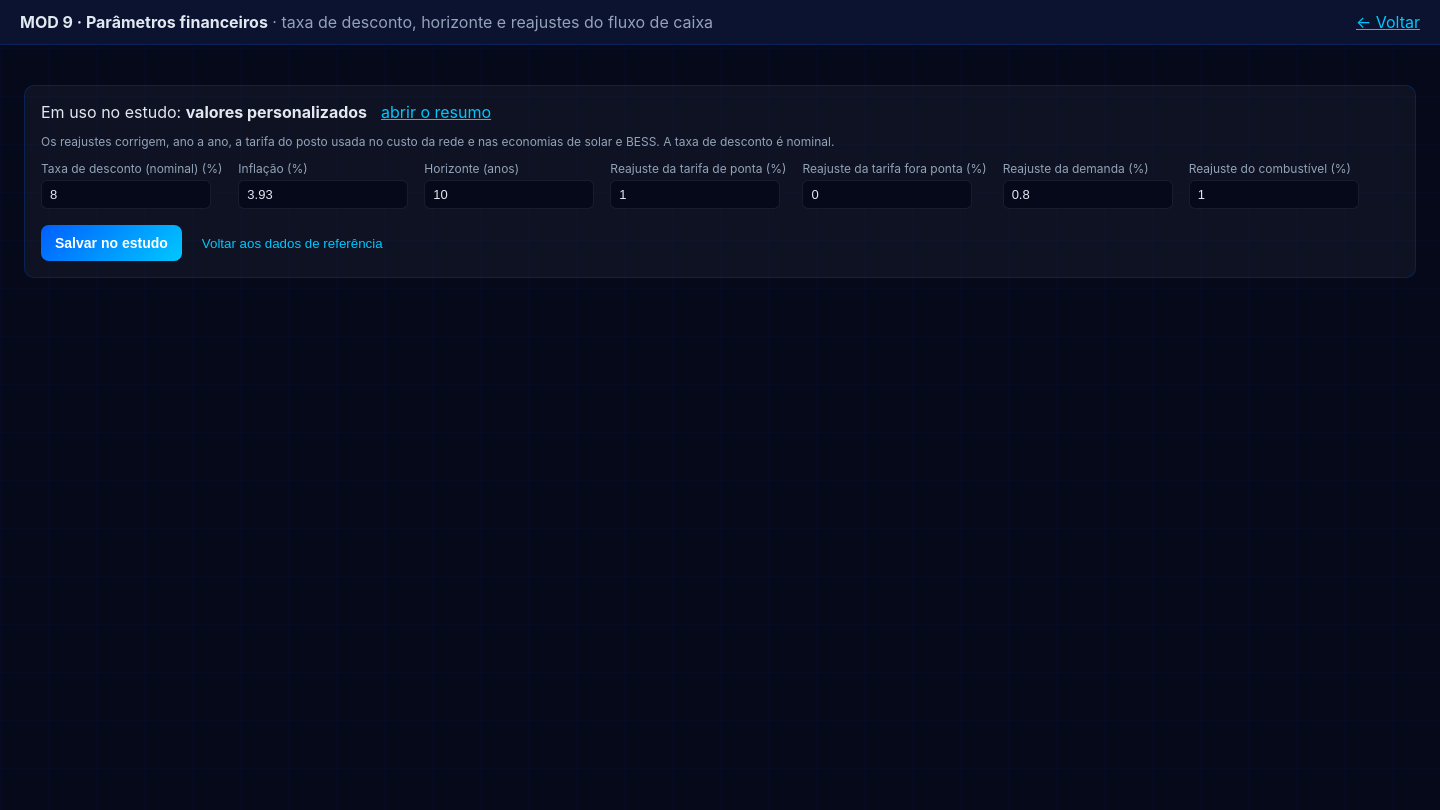
Test: InvestimentoPage › abre com o que já foi salvo e permite voltar à referência
Expected: the field labelled "Horizonte (anos)" holds "10", [424,180,594,209]
Expected: the text "valores personalizados" is shown, [186,102,367,122]
Click the button "Voltar aos dados de referência": (292, 243) [196,234,389,252]
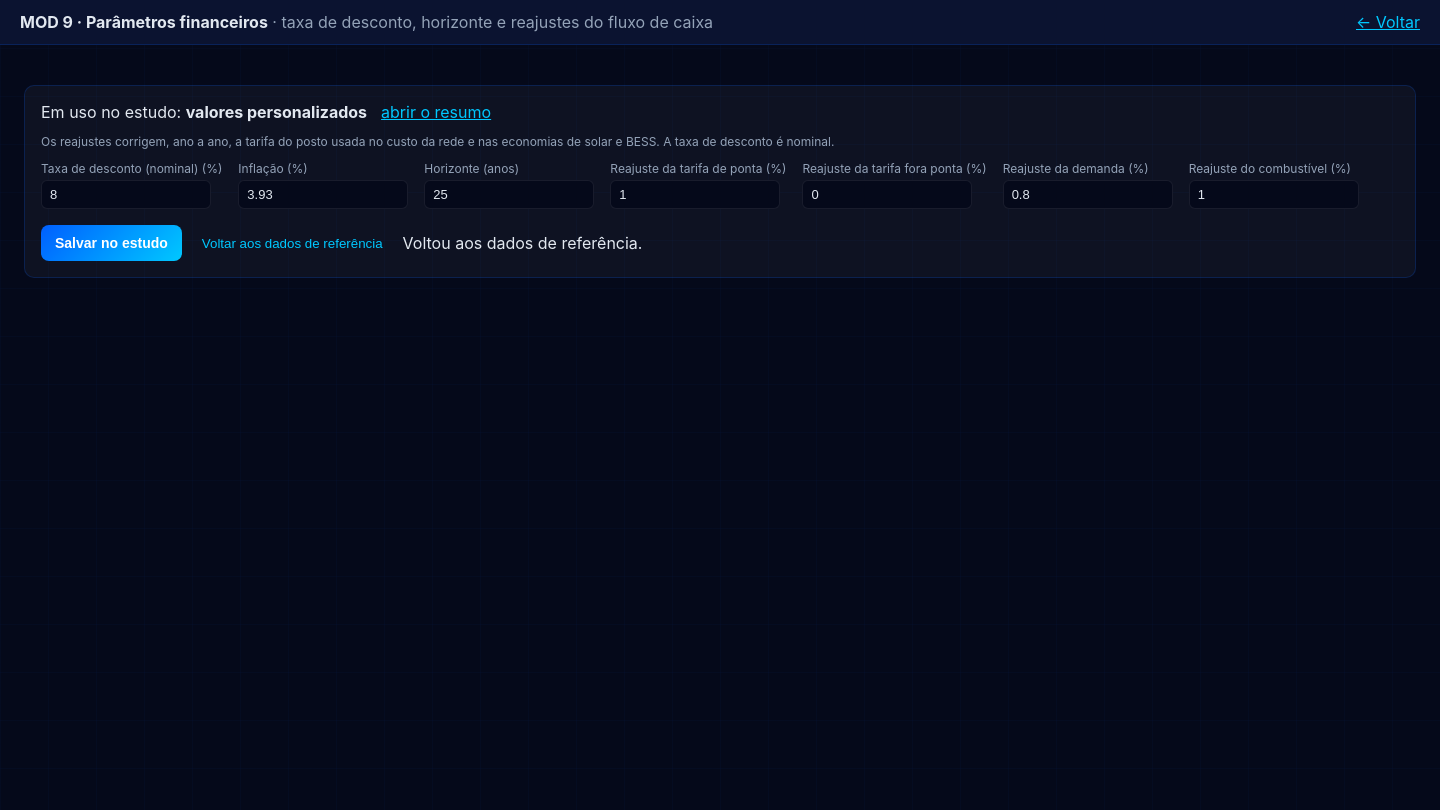
Now the field labelled "Horizonte (anos)" holds "25", box [424,180,594,209]
